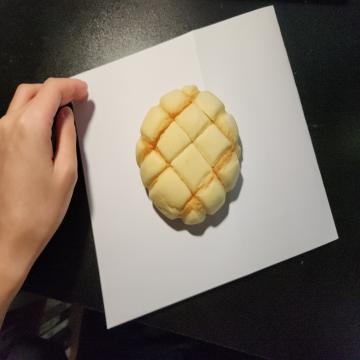melon_bread: (133, 86, 242, 226)
